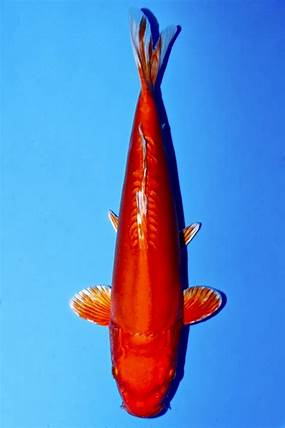red: (71, 6, 226, 419)
